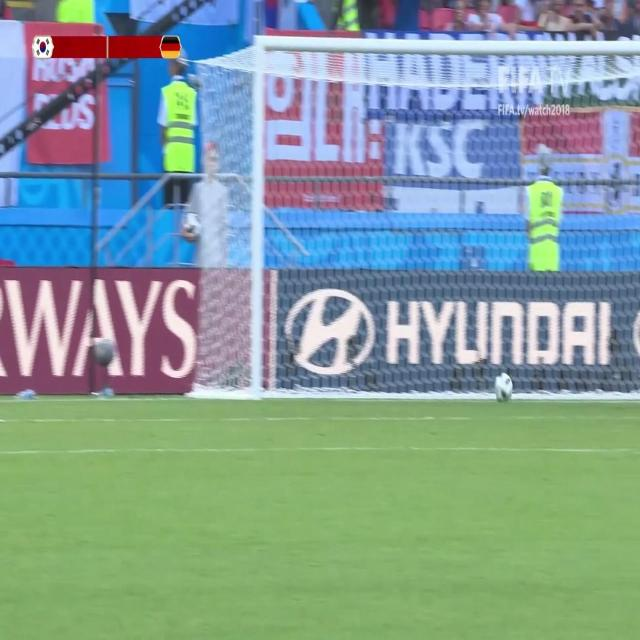ball: (494, 365, 514, 407)
